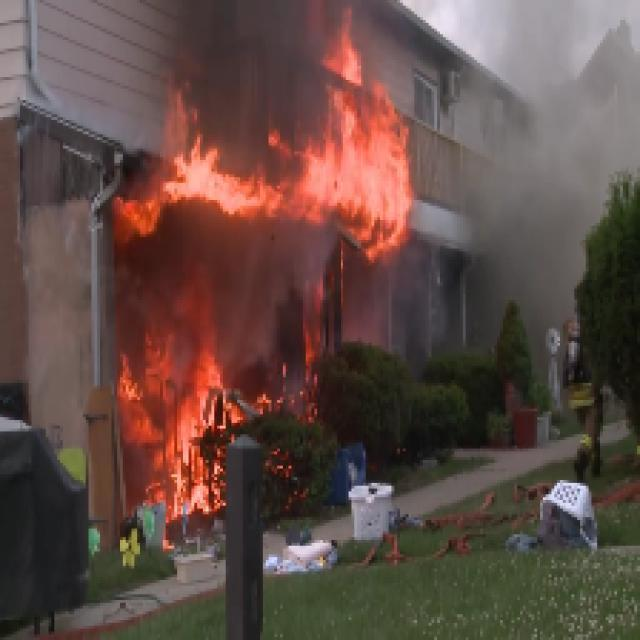Fire: (114, 0, 411, 551)
Smoke: (437, 0, 640, 386)
